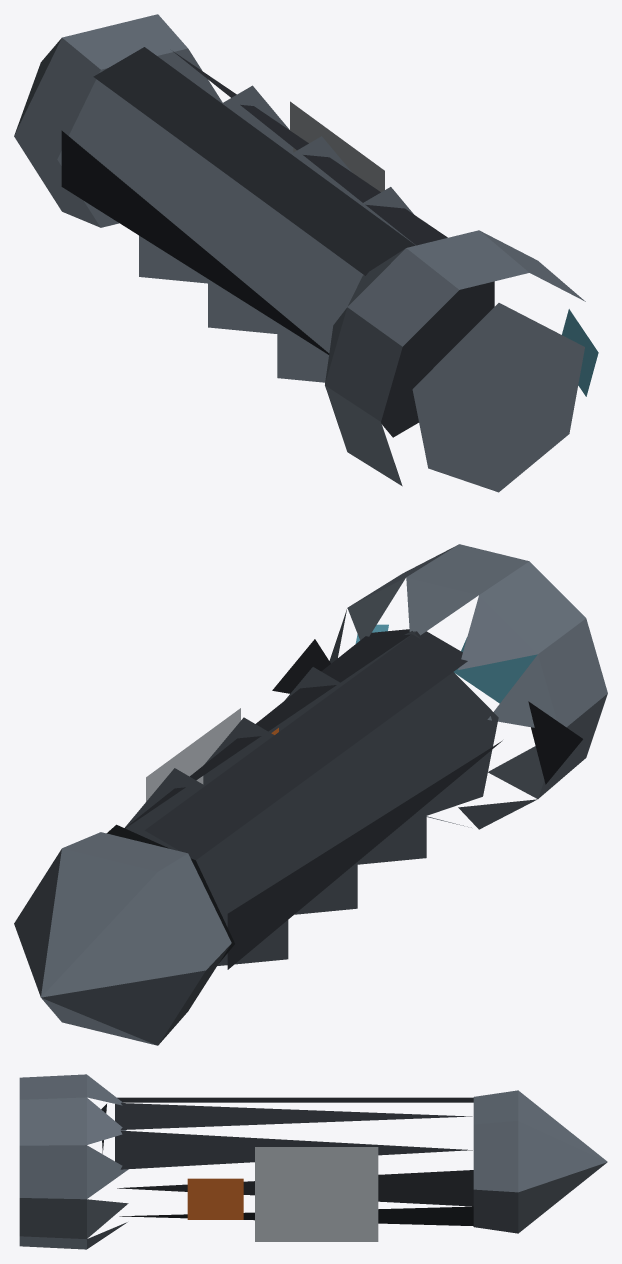
Rendered from saber-cross.lod.glb.
3 views of the same model, one above another, from view 1: azimuth 30°, elevation 25°; view 2: azimuth 150°, elevation 25°; view 3: azimuth 270°, elevation 25° (orthographic). The views are drawn at different scales.
Visible parts, largest first — view 1: m; view 2: m; view 3: m.
Part boxes in pixels (x1,y1,x2,y2): m: [14, 14, 598, 492]; m: [14, 544, 607, 1045]; m: [19, 1074, 607, 1249].
Size of the model in its own units: 0.0339 by 0.0244 by 0.0864.
